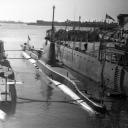submarine: (22, 42, 110, 113), (1, 41, 18, 108)
